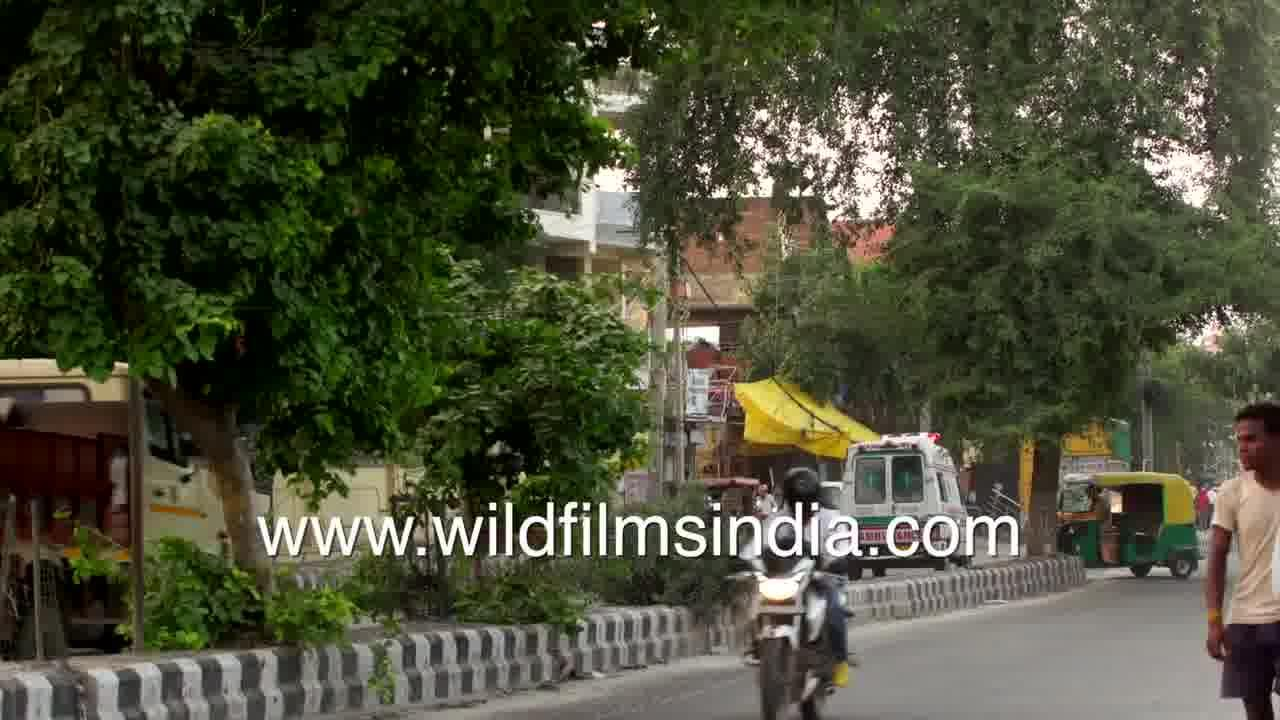AMBULANCE: (844, 430, 975, 516)
